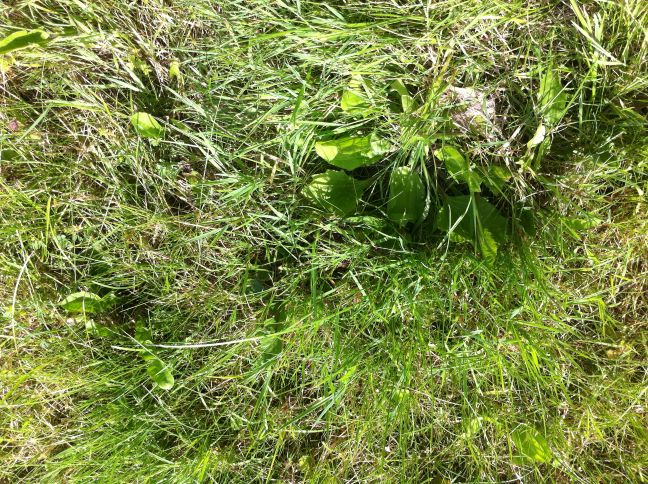weed1: (303, 74, 511, 262)
